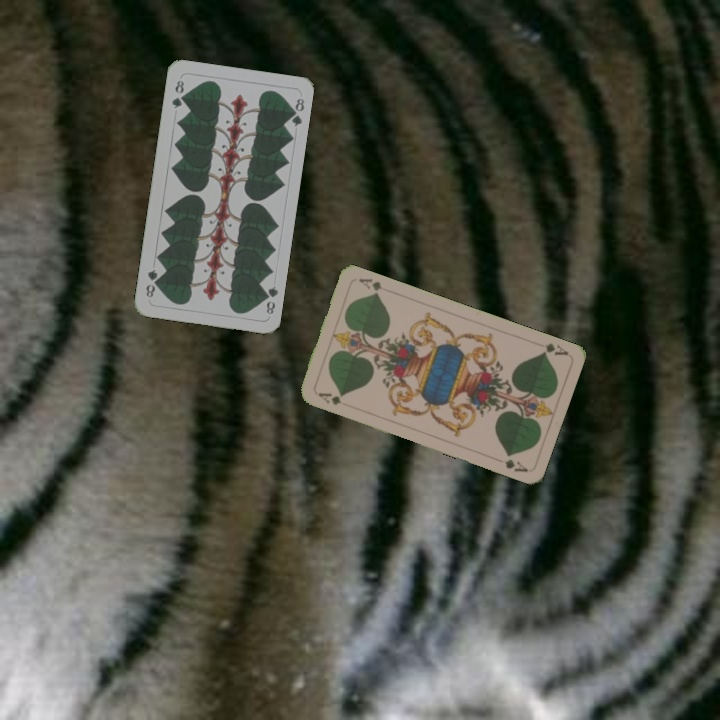G8: (259, 282, 280, 317), (168, 76, 187, 111)
GA: (314, 388, 351, 410), (538, 339, 570, 358)
